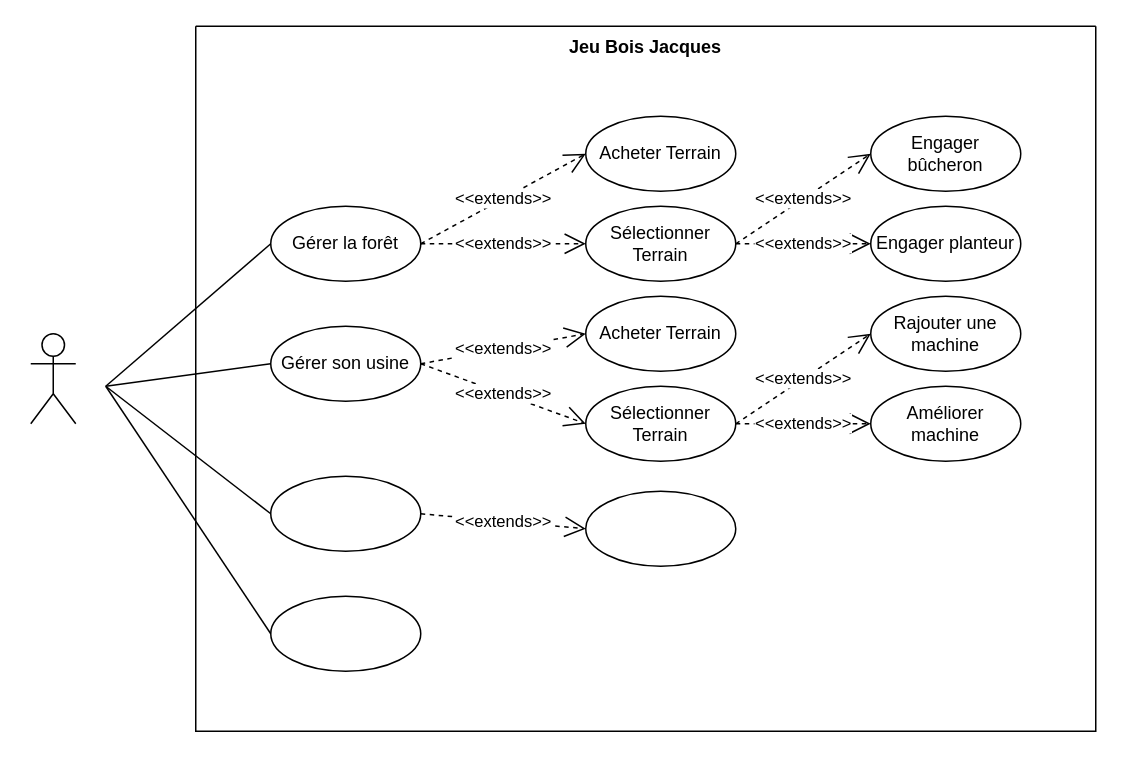
Some shapes in this 1122 by 758 pixel diagram are drawn without their labels. Here are the shapes that lost their labels. From the top down, the centre of each, then its label:
the point at 52,378: Joueur
the point at 345,513: Améliorer ses employés et véhicules
the point at 660,528: Engager Manager
the point at 345,633: Regarder Ressources
